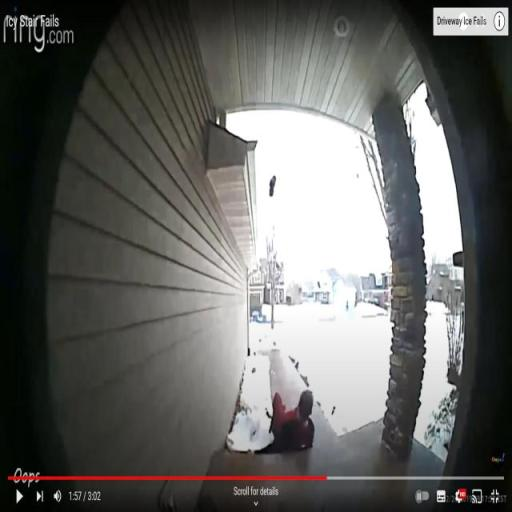Fall: (255, 386, 317, 458)
